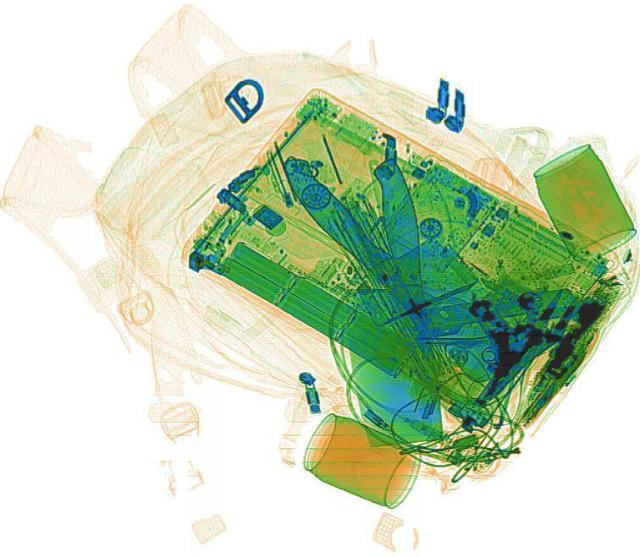Knife: (264, 129, 552, 392), (310, 156, 456, 447)
